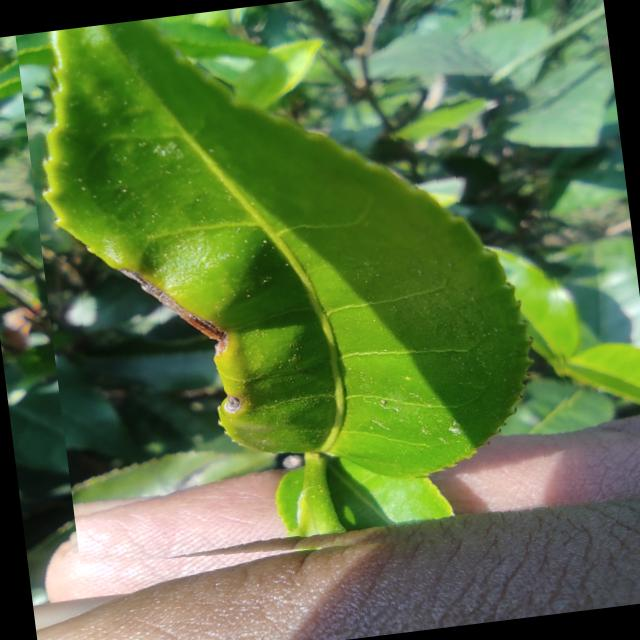Category C(4-7 days): (14, 0, 588, 590)
